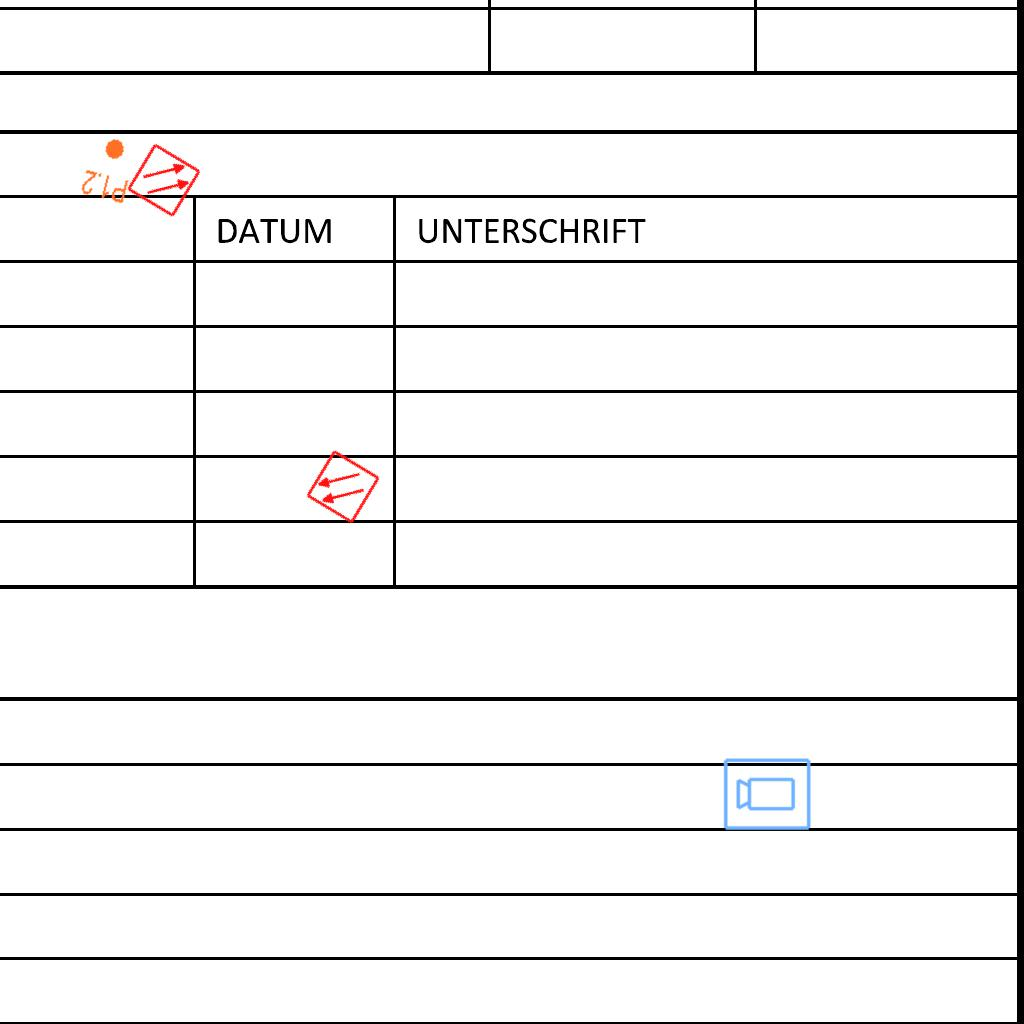Downlight_LED_Einbauleuchten_Flur: (78, 132, 140, 206)
KFO_Kamera_mit_Festobjektiv: (722, 755, 813, 832)
RMO_Rauchmelder_optischer: (125, 141, 203, 219), (304, 448, 382, 526)
